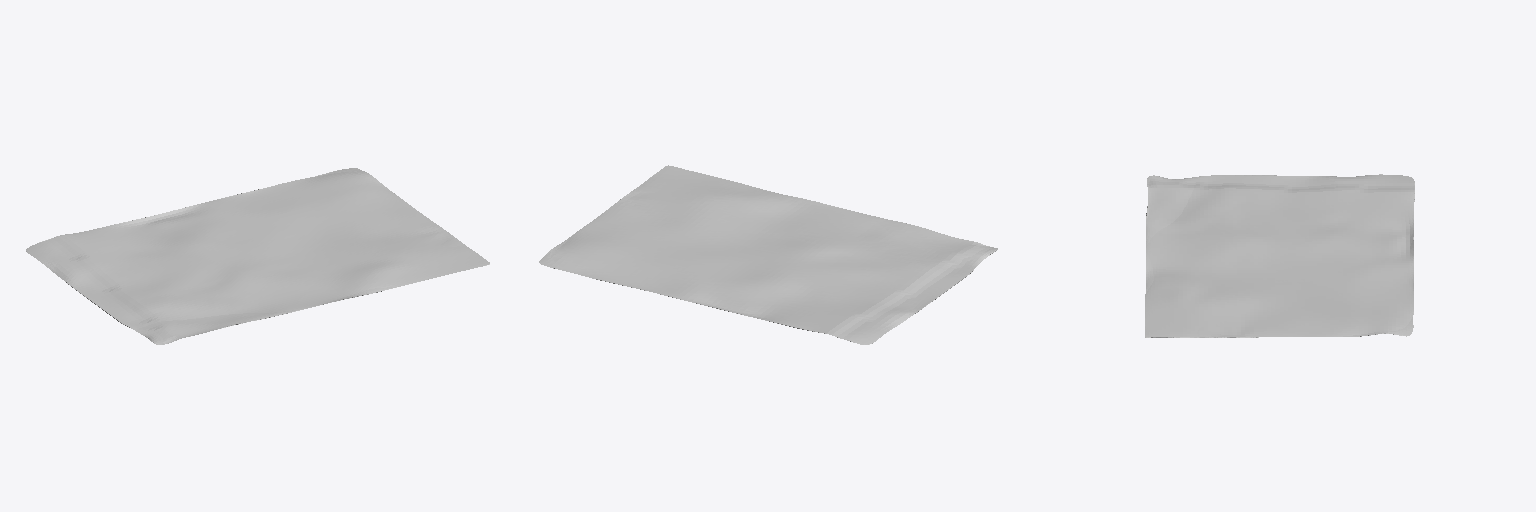
File: carpet.obj
3 renders of one model, left to right at view 1: azimuth 30°, elevation 25°; view 2: azimuth 150°, elevation 25°; view 3: azimuth 270°, elevation 25°, orthographic.
Parts seen in each view (by area): view 1: Carpet; view 2: Carpet; view 3: Carpet.
Part boxes in pixels (bbox=[...]): Carpet: bbox=[26, 168, 489, 344]; Carpet: bbox=[539, 165, 997, 344]; Carpet: bbox=[1145, 174, 1414, 337].
Bounding box in the file's own units: 1.81 × 0.0353 × 1.26.